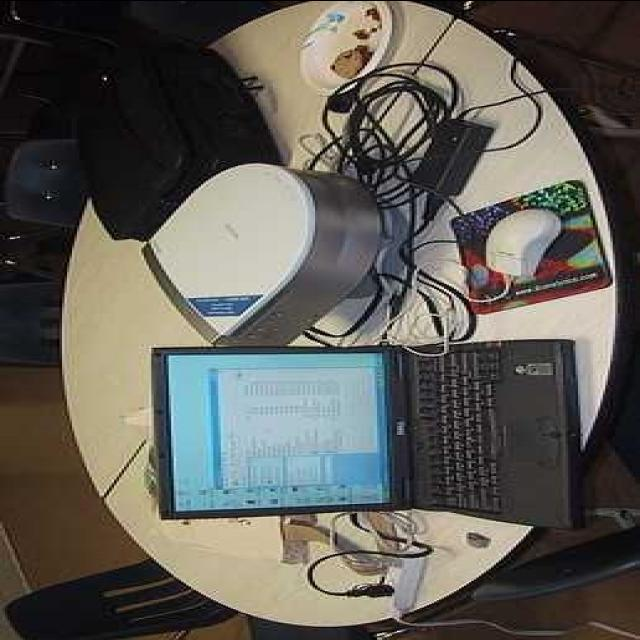laptop: (164, 332, 604, 524)
